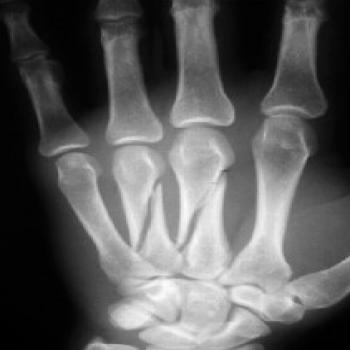Fracture: (176, 163, 239, 249), (125, 172, 168, 250)
